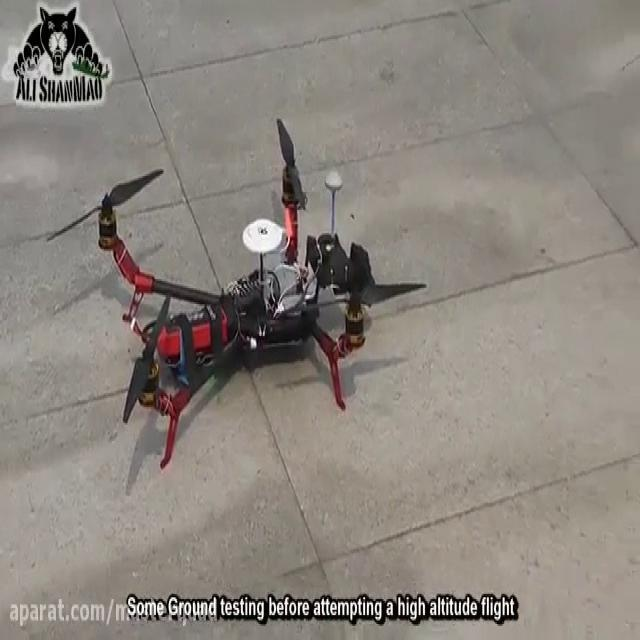drone: (42, 111, 429, 476)
